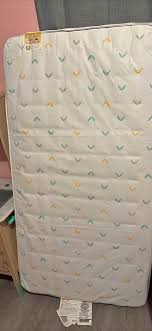bed-matress: (3, 23, 152, 308)
